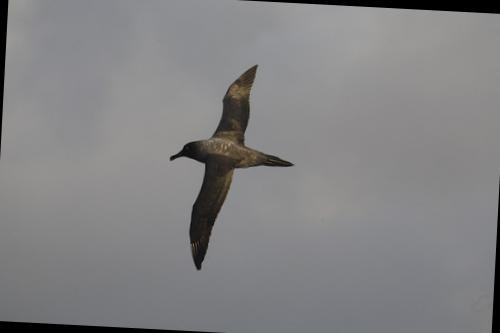bird: (157, 54, 302, 278)
